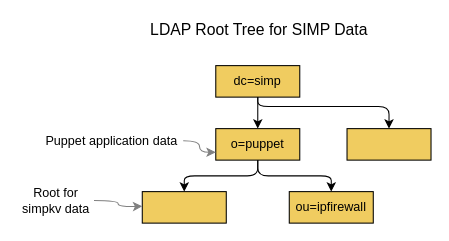
The diagram is 449 pixels wide and 241 high, and some of its shapes have lost their labels. Each missing label, with the centre of its shape:
"o=sitemap" goes at point 388,144.
"ou=simpkv" goes at point 183,207.
